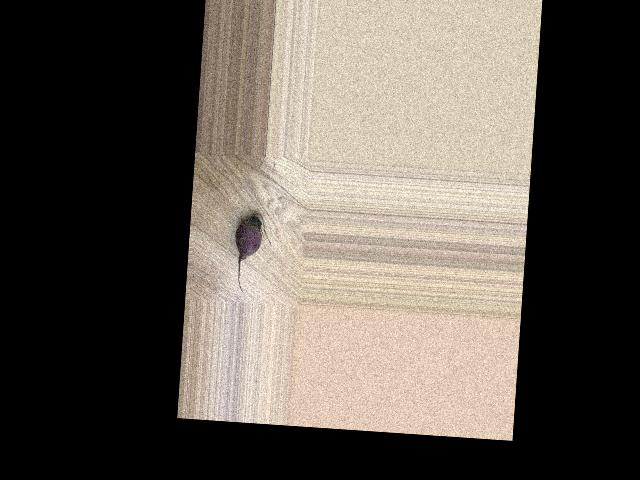beet: (231, 212, 272, 294)
